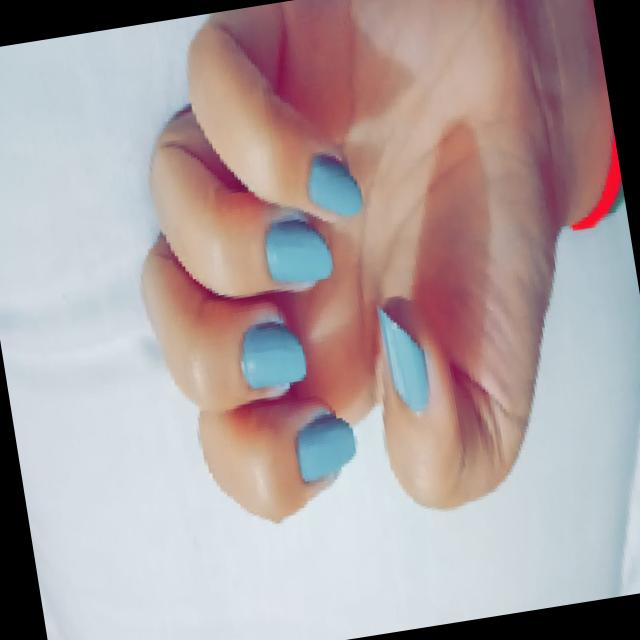Nail: (379, 308, 429, 412), (240, 323, 307, 389), (294, 413, 356, 483), (265, 221, 331, 283), (307, 155, 362, 217)
